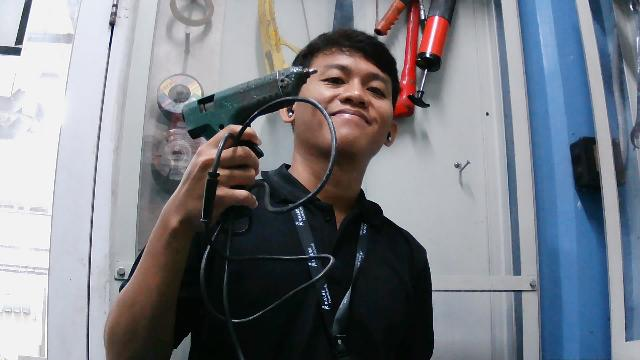gun_lem: (170, 55, 338, 195)
